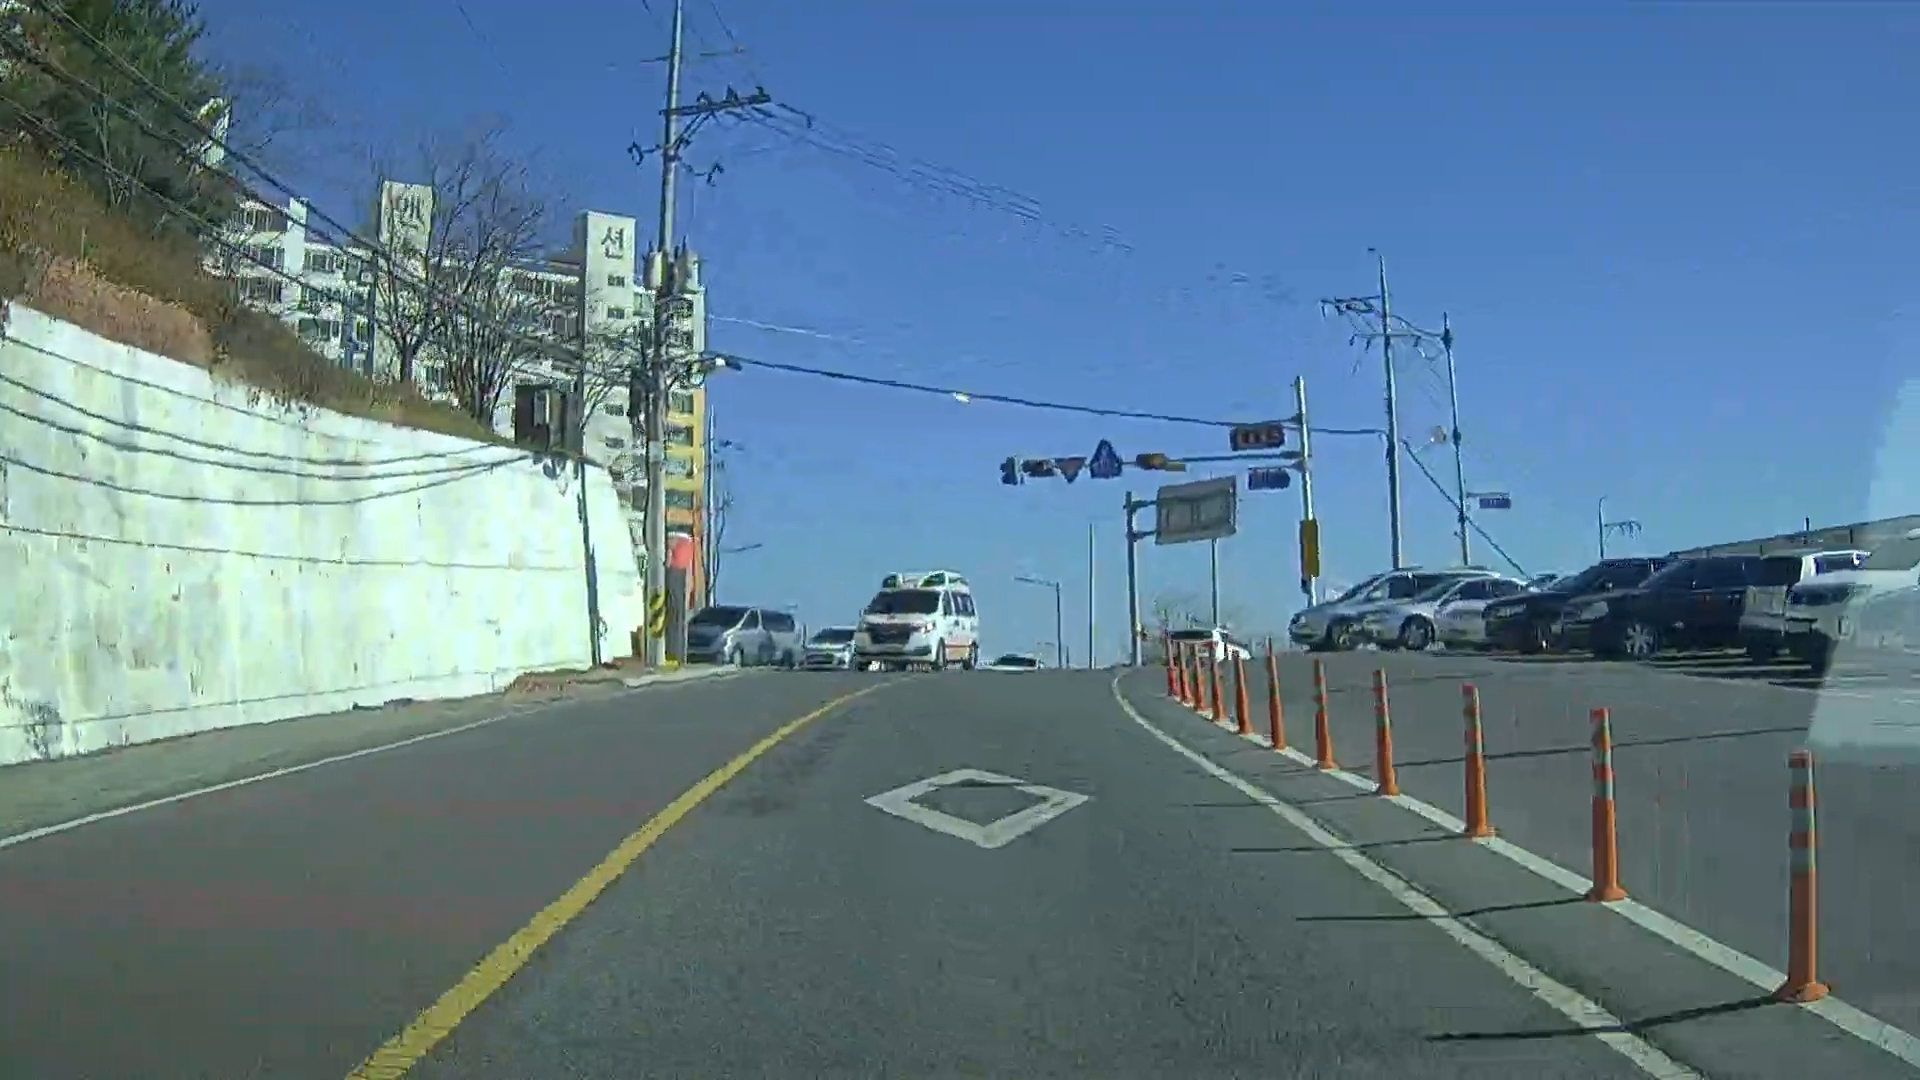trafficSignTri: (1088, 436, 1124, 483), (1055, 455, 1083, 484)
